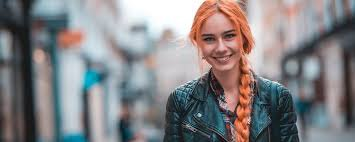noMask: (186, 3, 259, 82)
